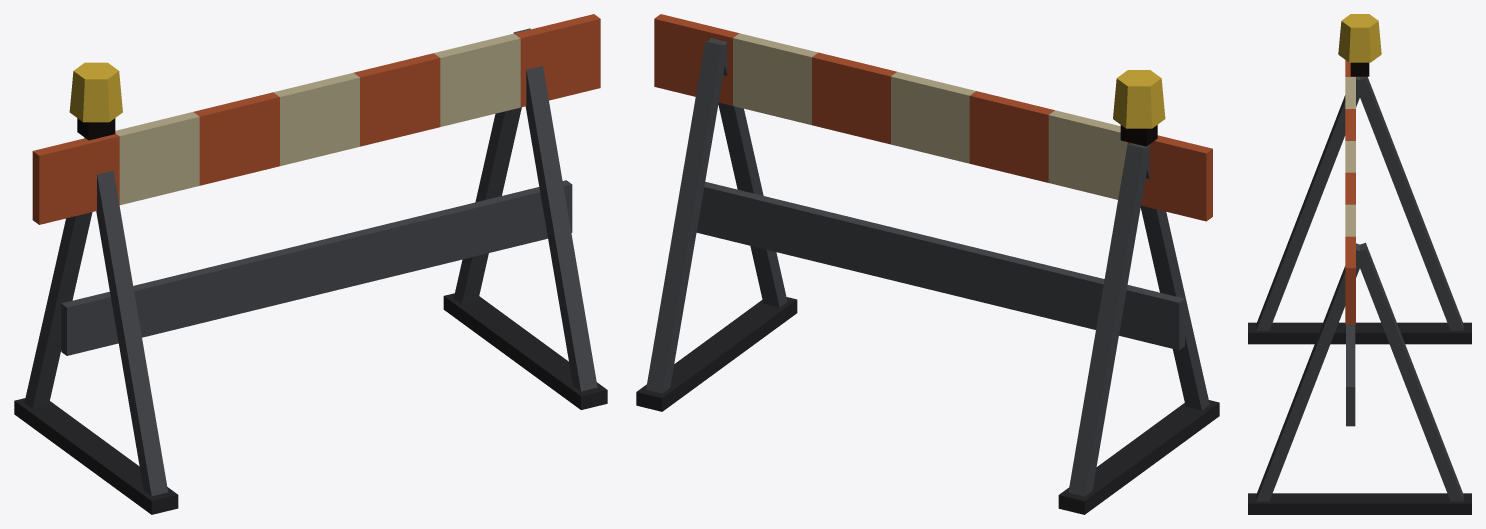
File: hollis_sawhorse.glb
The picture shows the model from 3 angles, left to right: view 1: azimuth 30°, elevation 25°; view 2: azimuth 150°, elevation 25°; view 3: azimuth 270°, elevation 25°; orthographic projection. The views are drawn at different scales.
Parts seen in each view (by area): view 1: hollis_sawhorse; view 2: hollis_sawhorse; view 3: hollis_sawhorse.
Part boxes in pixels (x1,y1,x2,y2): hollis_sawhorse: (14,14,607,514); hollis_sawhorse: (636,14,1219,514); hollis_sawhorse: (1248,14,1471,514).
Bounding box in the file's own units: 1.7 × 1.13 × 0.72.
